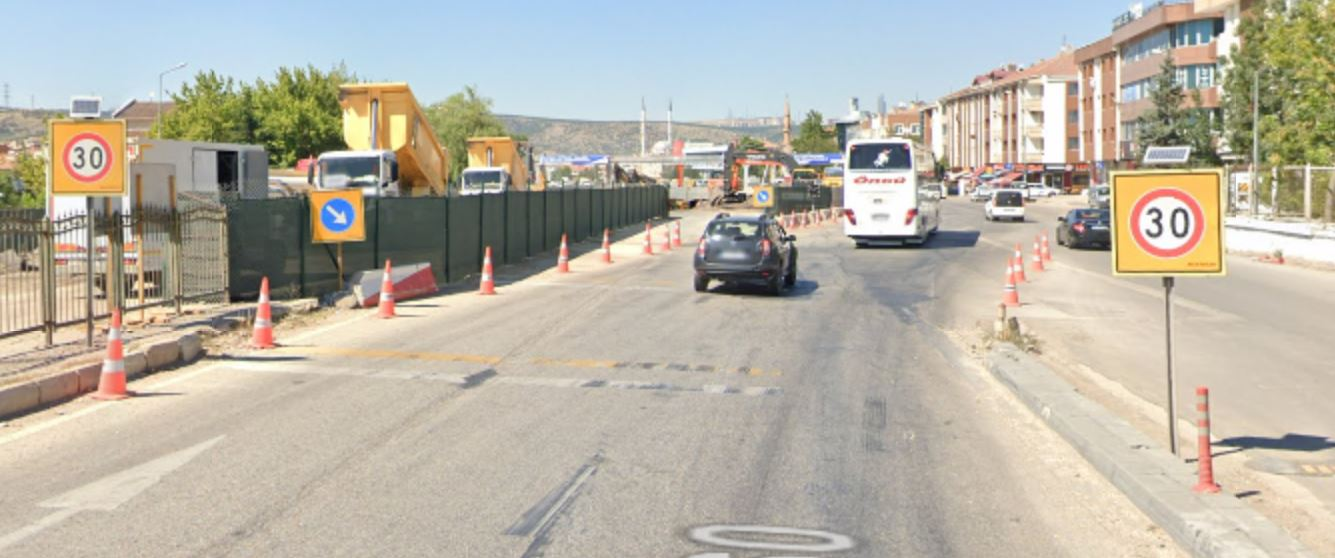30 Km Hiz Siniri: (1134, 189, 1205, 261), (62, 135, 114, 185)
Sagdan Git: (315, 195, 356, 236)
